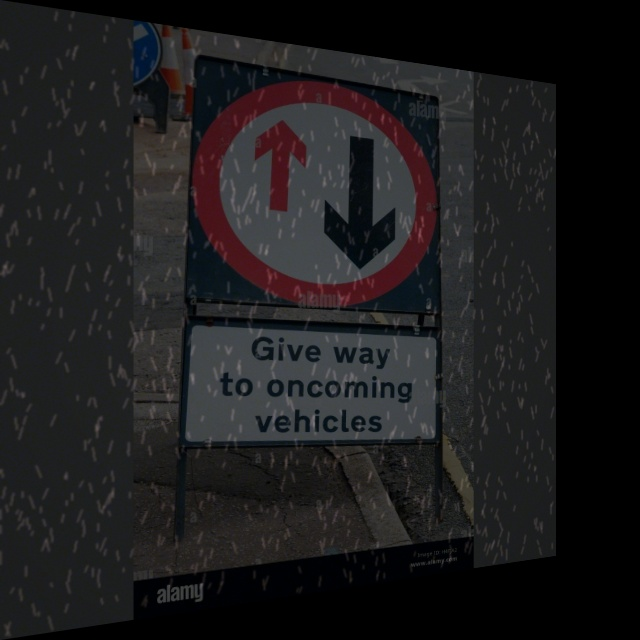Priority_for_Oncoming_Traffic: (193, 63, 440, 308)
